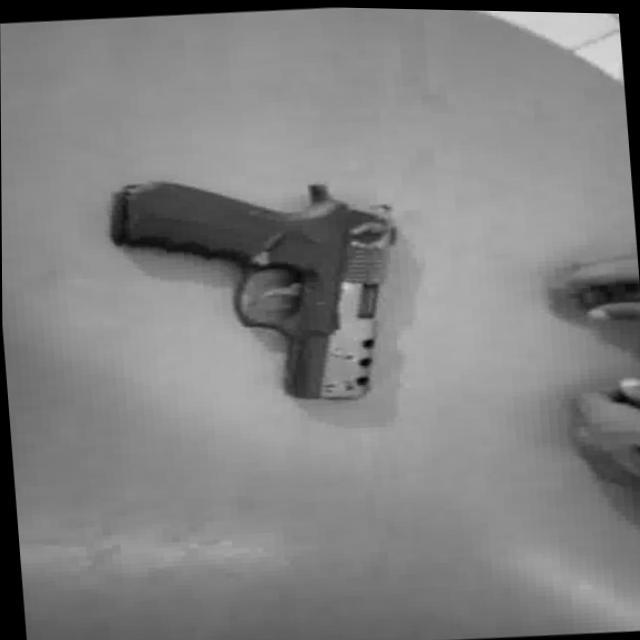weapon: (105, 161, 410, 416)
